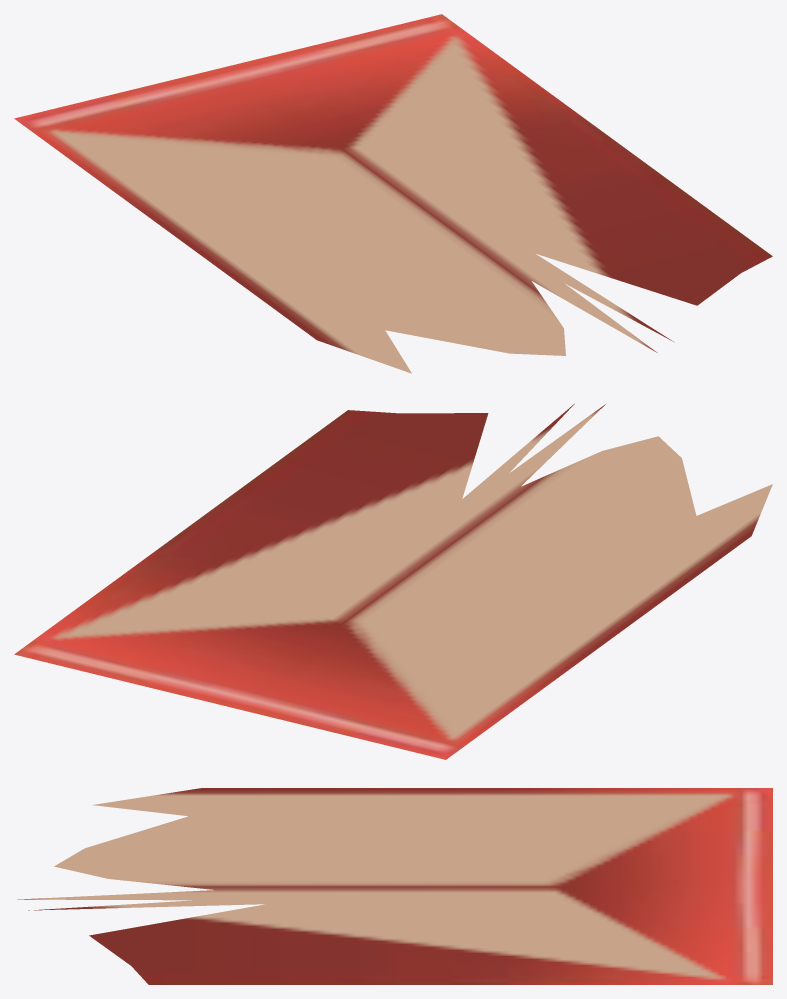
Rendered from Destroyed flag 2.fbx.
The picture shows the model from 3 angles, top to bottom: view 1: azimuth 30°, elevation 25°; view 2: azimuth 150°, elevation 25°; view 3: azimuth 270°, elevation 25°; orthographic projection. The views are drawn at different scales.
Parts seen in each view (by area): view 1: Flag Destroyed; view 2: Flag Destroyed; view 3: Flag Destroyed.
Boxes of the visible parts, bbox=[...] form: Flag Destroyed: bbox=[14, 14, 772, 373]; Flag Destroyed: bbox=[14, 403, 772, 759]; Flag Destroyed: bbox=[17, 788, 772, 984].
Size of the model in its own units: 398 by 0.000105 by 647.
